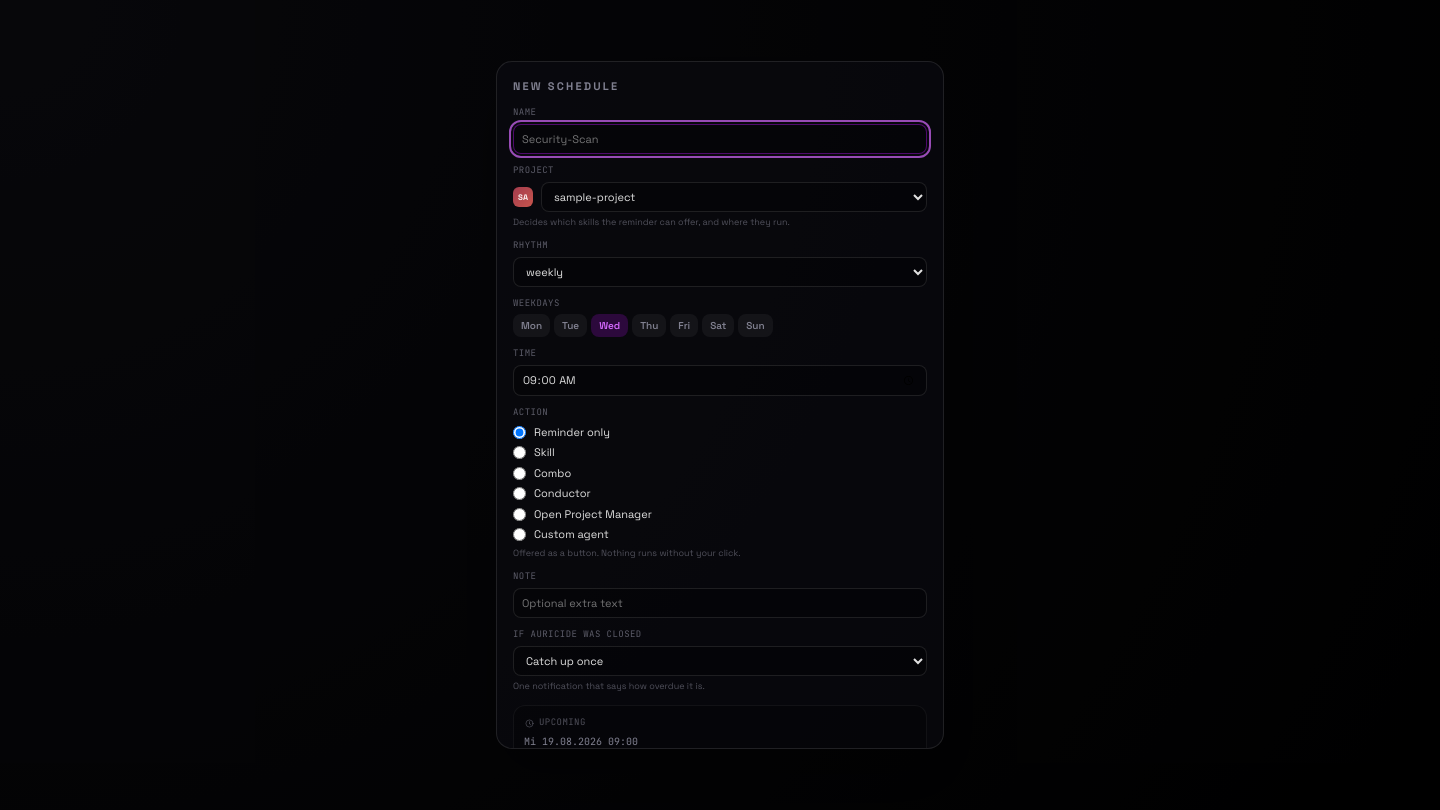
Scenario: ScheduleEditor › skill, combo, and the project they belong to › treats a custom-agent choice with an empty task as reminder-only
Type "Weekly" into the field with test id "schedule-name" at (720, 139), box [513, 124, 927, 154]
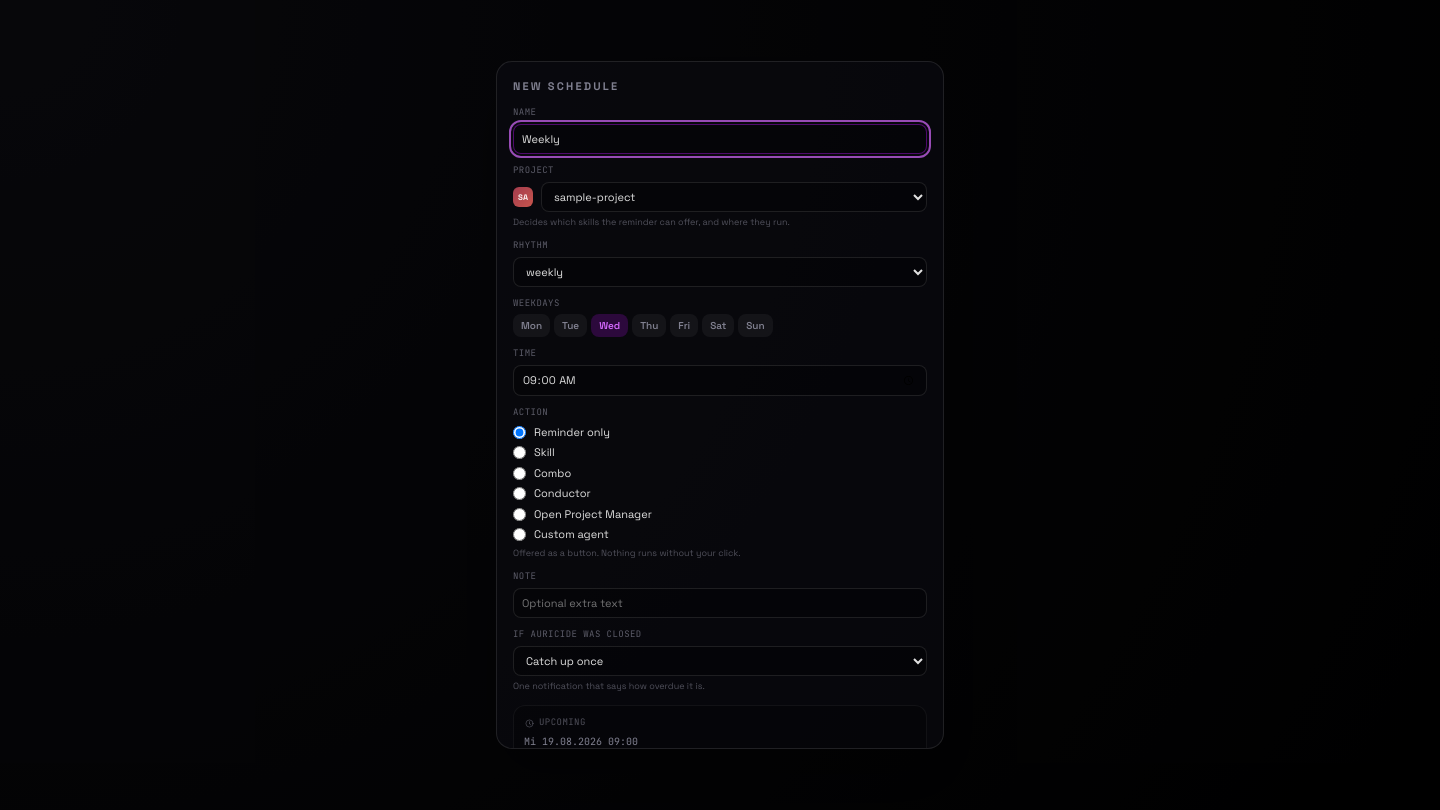
Click the radio button with test id "schedule-action-task" at (520, 534), box [513, 528, 526, 541]
(page scrolled)
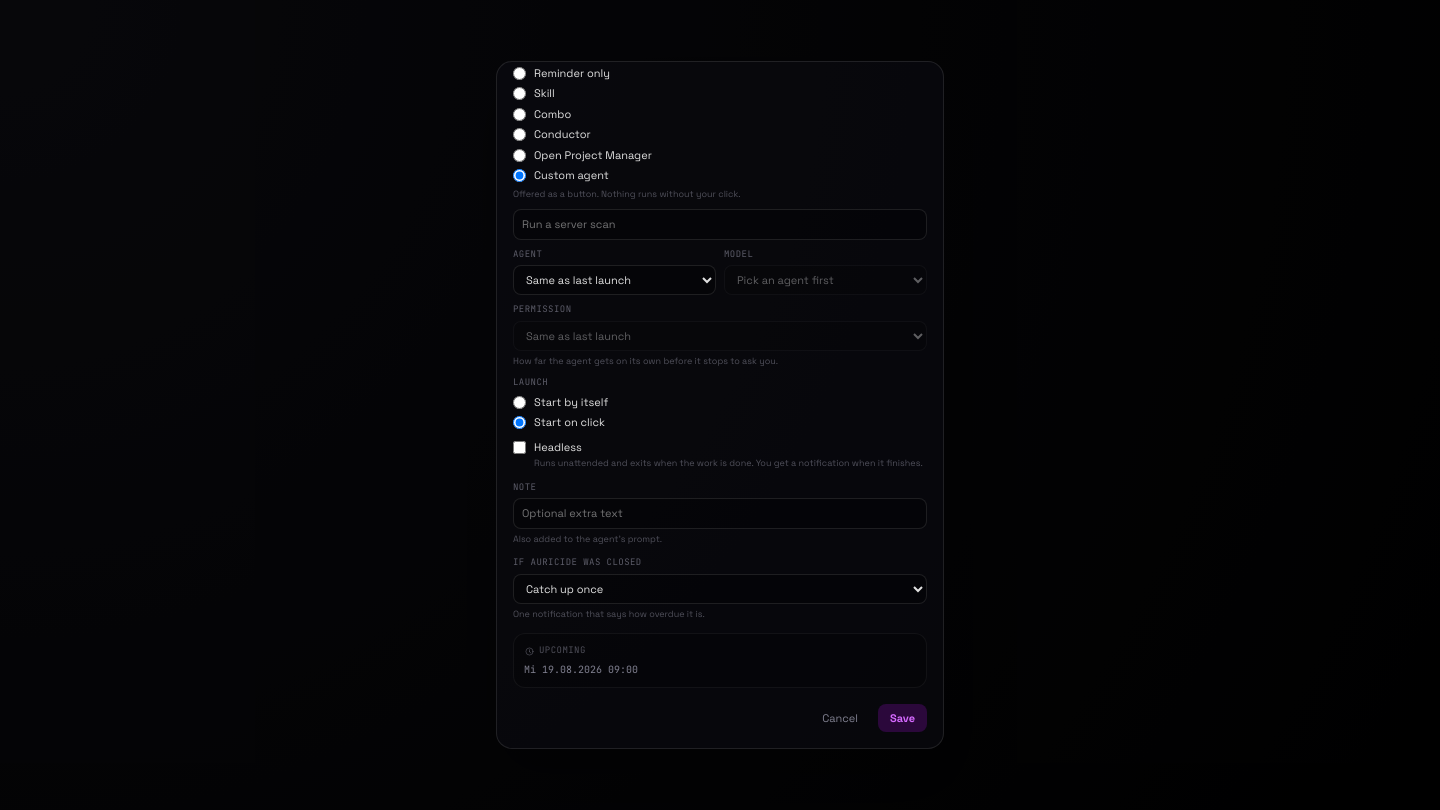
Result: the button with test id "schedule-save" is enabled at [878, 704, 927, 732]
